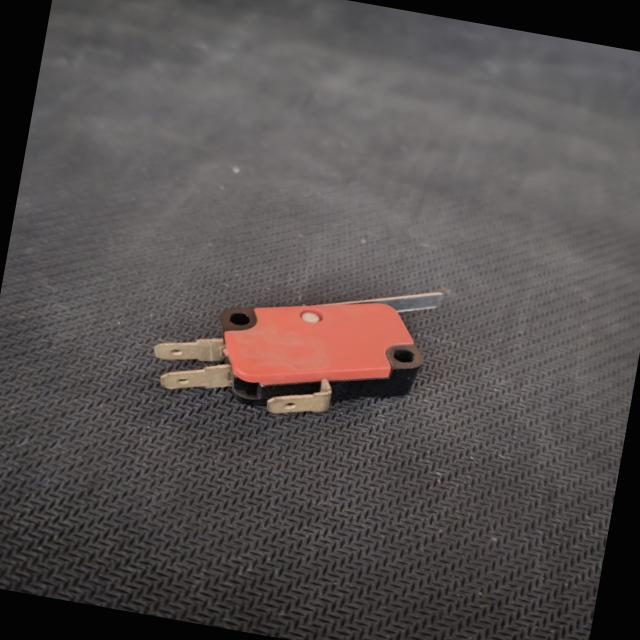switch: (134, 236, 456, 454)
